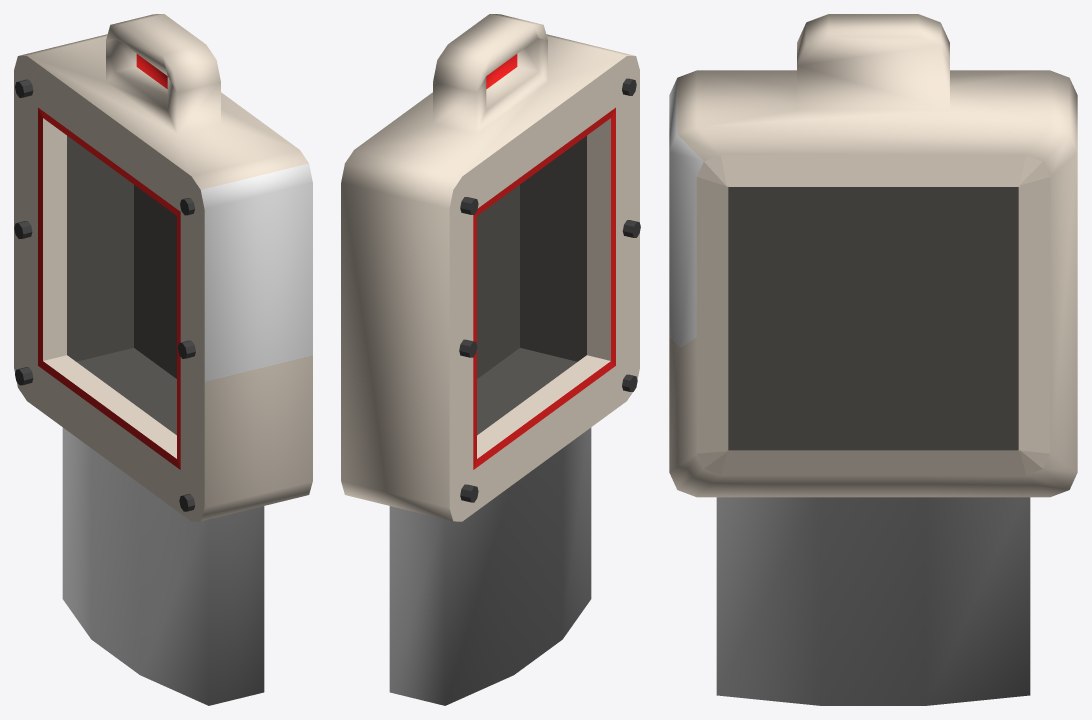
File: Key_Box.glb
3 views of the same model, side by side, from view 1: azimuth 30°, elevation 25°; view 2: azimuth 150°, elevation 25°; view 3: azimuth 270°, elevation 25° (orthographic). The views are drawn at different scales.
Visible parts, largest first — view 1: Key_Box; view 2: Key_Box; view 3: Key_Box.
Boxes of the visible parts, left/top/right/bottom form: Key_Box: left=14, top=14, right=312, bottom=705; Key_Box: left=341, top=14, right=640, bottom=705; Key_Box: left=669, top=14, right=1077, bottom=705.
Size of the model in its own units: 0.3025 by 1.35 by 0.7649.
Materials: 1 (1 with a texture image).
